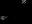person: (19, 0, 27, 5), (0, 15, 6, 21)
